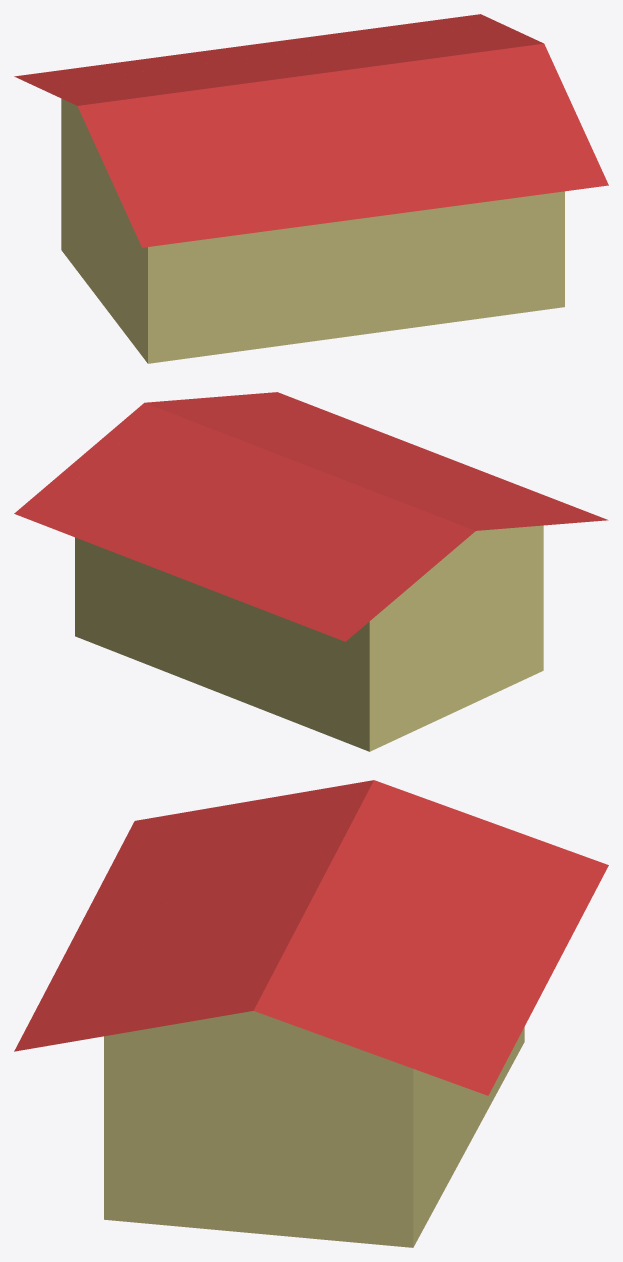
3 views of the same model, one above another, from view 1: azimuth 30°, elevation 25°; view 2: azimuth 150°, elevation 25°; view 3: azimuth 270°, elevation 25° (orthographic). The views are drawn at different scales.
Size of the model in its own units: 26.32 by 24.06 by 10.43.
